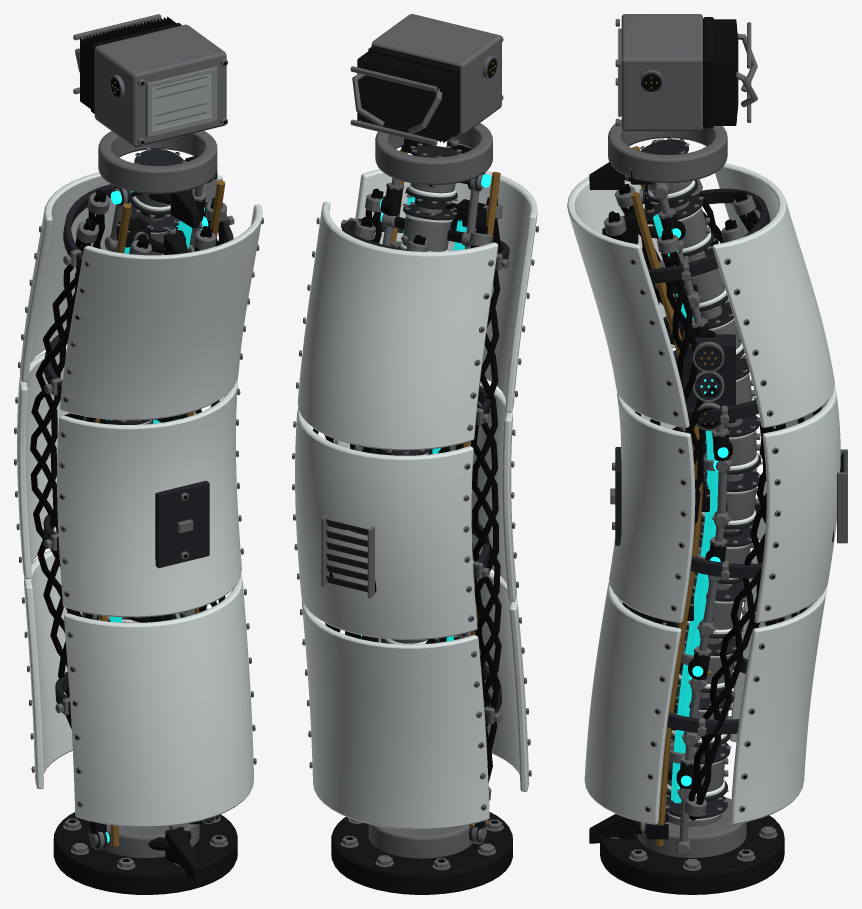
Rendered from cybernetic_module_baked.glb.
The picture shows the model from 3 angles, left to right: view 1: azimuth 30°, elevation 25°; view 2: azimuth 150°, elevation 25°; view 3: azimuth 270°, elevation 25°; orthographic projection.
Parts seen in each view (by area): view 1: Dermal_Shell_R, Memory_Coprocessor, Dermal_Shell_L, Spinal_Interface, Muscle_Layer, Neural_Conductor; view 2: Dermal_Shell_L, Memory_Coprocessor, Spinal_Interface, Dermal_Shell_R, Muscle_Layer, Neural_Conductor; view 3: Dermal_Shell_L, Dermal_Shell_R, Spinal_Interface, Muscle_Layer, Memory_Coprocessor, Neural_Conductor.
Part boxes in pixels (box(x1,y1,x2,y2)): Dermal_Shell_R: box(57, 204, 263, 827); Memory_Coprocessor: box(73, 14, 227, 193); Dermal_Shell_L: box(14, 172, 222, 788); Spinal_Interface: box(53, 147, 237, 894); Muscle_Layer: box(30, 180, 234, 846); Neural_Conductor: box(106, 191, 208, 842); Dermal_Shell_L: box(292, 201, 498, 829); Memory_Coprocessor: box(350, 14, 503, 185); Spinal_Interface: box(331, 135, 512, 894); Dermal_Shell_R: box(334, 169, 538, 791); Muscle_Layer: box(313, 149, 509, 823); Neural_Conductor: box(380, 174, 491, 642); Dermal_Shell_L: box(712, 163, 847, 824); Dermal_Shell_R: box(567, 177, 695, 824); Spinal_Interface: box(589, 136, 784, 894); Muscle_Layer: box(604, 146, 821, 846); Memory_Coprocessor: box(608, 14, 757, 182); Neural_Conductor: box(653, 214, 718, 803).
Bounding box in the file's own units: 0.3809 × 1.67 × 0.5166.
